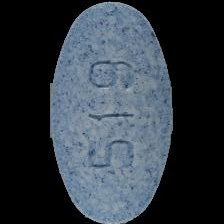62756-519: (0, 0, 224, 224)
